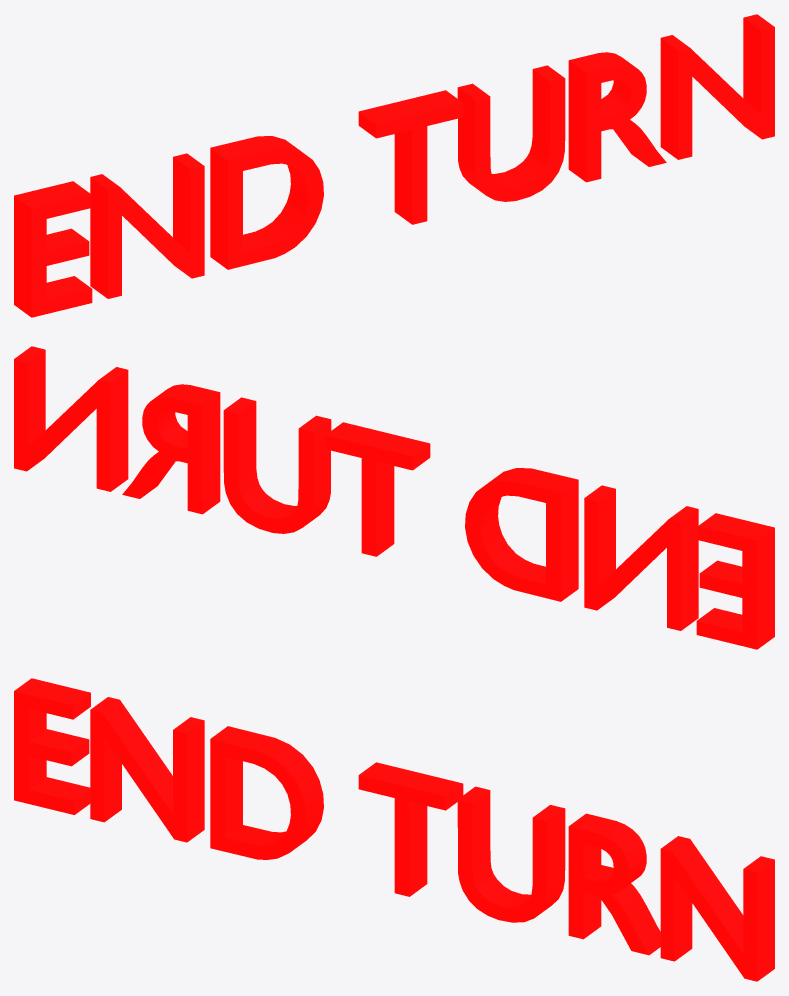
The model's file is text-end-turn.glb.
3 renders of one model, top to bottom at view 1: azimuth 30°, elevation 25°; view 2: azimuth 150°, elevation 25°; view 3: azimuth 330°, elevation 25°, orthographic.
Visible parts, largest first — view 1: Text; view 2: Text; view 3: Text.
Part boxes in pixels (x1,y1,x2,y2): Text: [14, 14, 774, 317]; Text: [14, 346, 774, 649]; Text: [14, 678, 774, 981].
Size of what is drawn, in the model's own units: 4.86 by 0.691 by 0.2.
